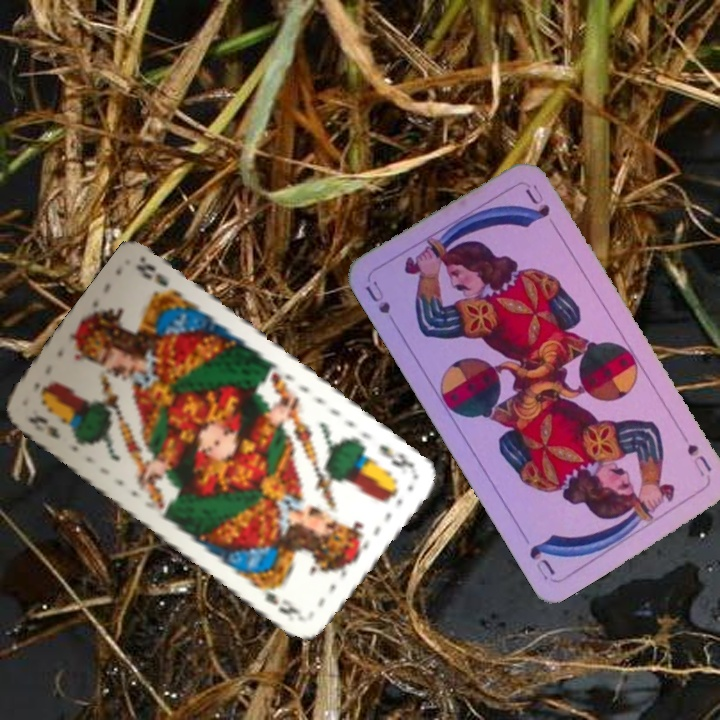EK: (374, 440, 418, 474), (24, 411, 64, 442)
SU: (677, 428, 715, 480), (361, 276, 393, 317)
